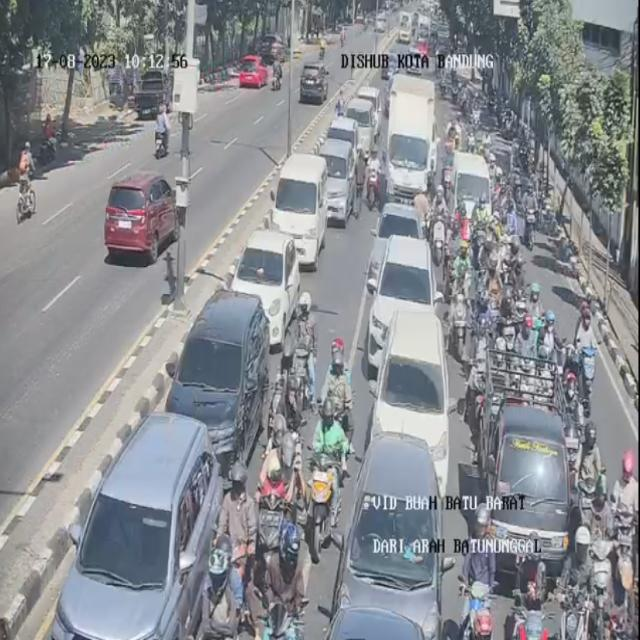cars: (51, 415, 222, 640), (340, 438, 452, 640), (163, 292, 267, 474), (486, 401, 574, 588), (365, 309, 450, 472), (364, 233, 436, 368), (232, 230, 301, 350), (386, 78, 441, 208), (271, 155, 326, 266), (365, 199, 423, 290), (304, 605, 436, 640), (316, 135, 358, 221), (453, 150, 495, 230), (345, 95, 379, 152), (329, 116, 365, 168), (560, 527, 563, 528)
motorcycle: (256, 418, 305, 598), (305, 398, 351, 566), (503, 534, 553, 640), (460, 499, 497, 640), (258, 536, 305, 640), (322, 339, 355, 478), (609, 449, 638, 605), (561, 522, 597, 640), (286, 298, 319, 422), (209, 506, 241, 632), (572, 428, 604, 537), (574, 300, 601, 413), (468, 316, 496, 417), (200, 586, 249, 640), (451, 253, 474, 364), (535, 310, 561, 408), (507, 255, 528, 337), (482, 253, 502, 332), (528, 286, 550, 348), (525, 182, 539, 261), (434, 213, 450, 268), (449, 118, 461, 152)
